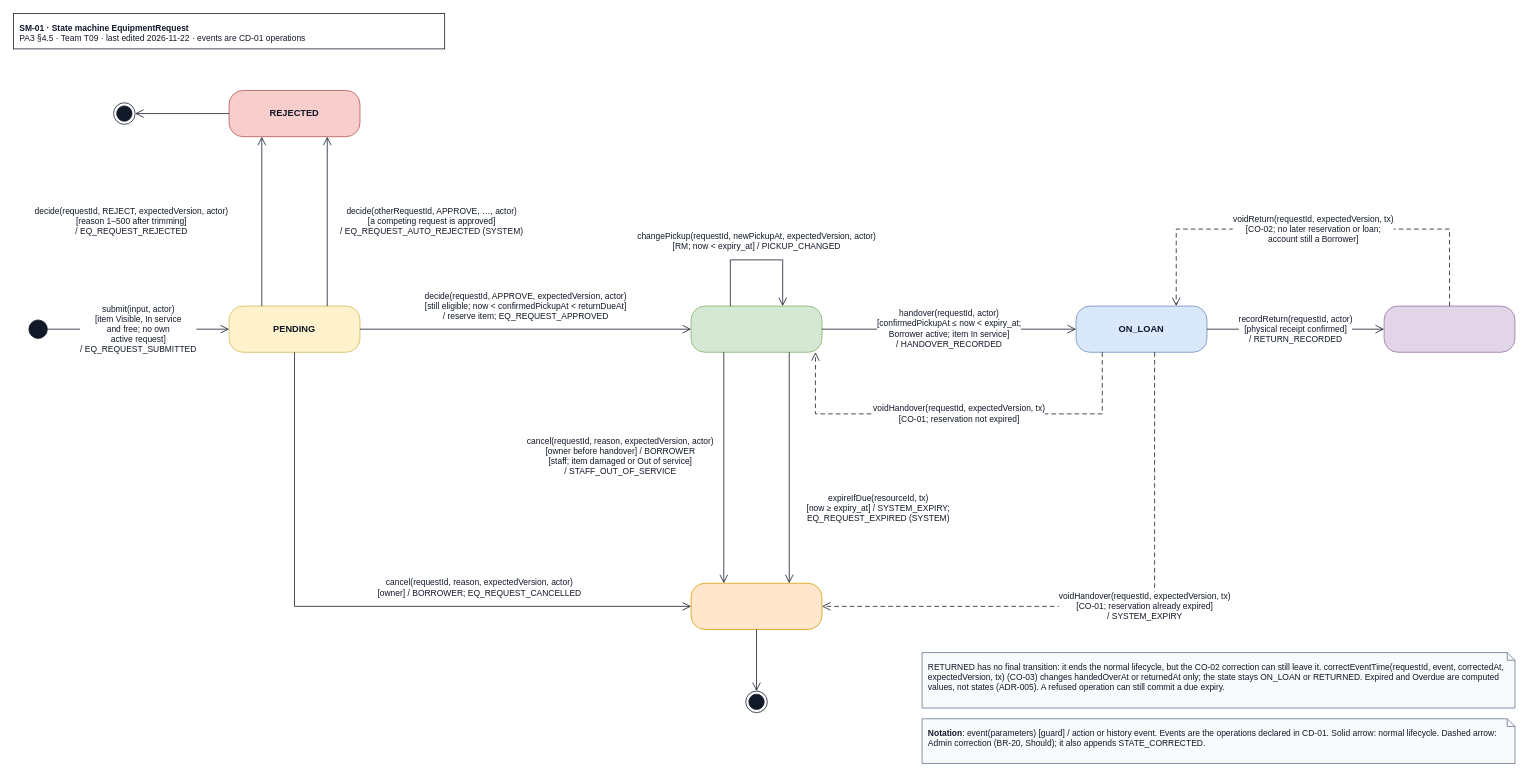
Some shapes in this 1528 by 777 pixel diagram are drawn without their labels. The shapes that lost their labels are listed below. From the top down, each one's centre as x and y in pixels, then its label:
the point at 756,328: APPROVED
the point at 1449,328: RETURNED
the point at 756,606: CANCELLED
